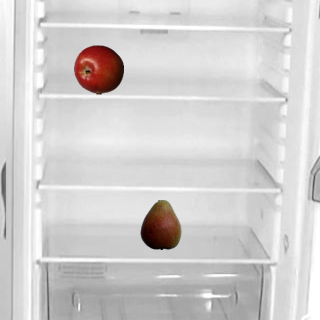Apple Braeburn: (73, 44, 123, 94)
Pear Forelle: (135, 199, 185, 249)
